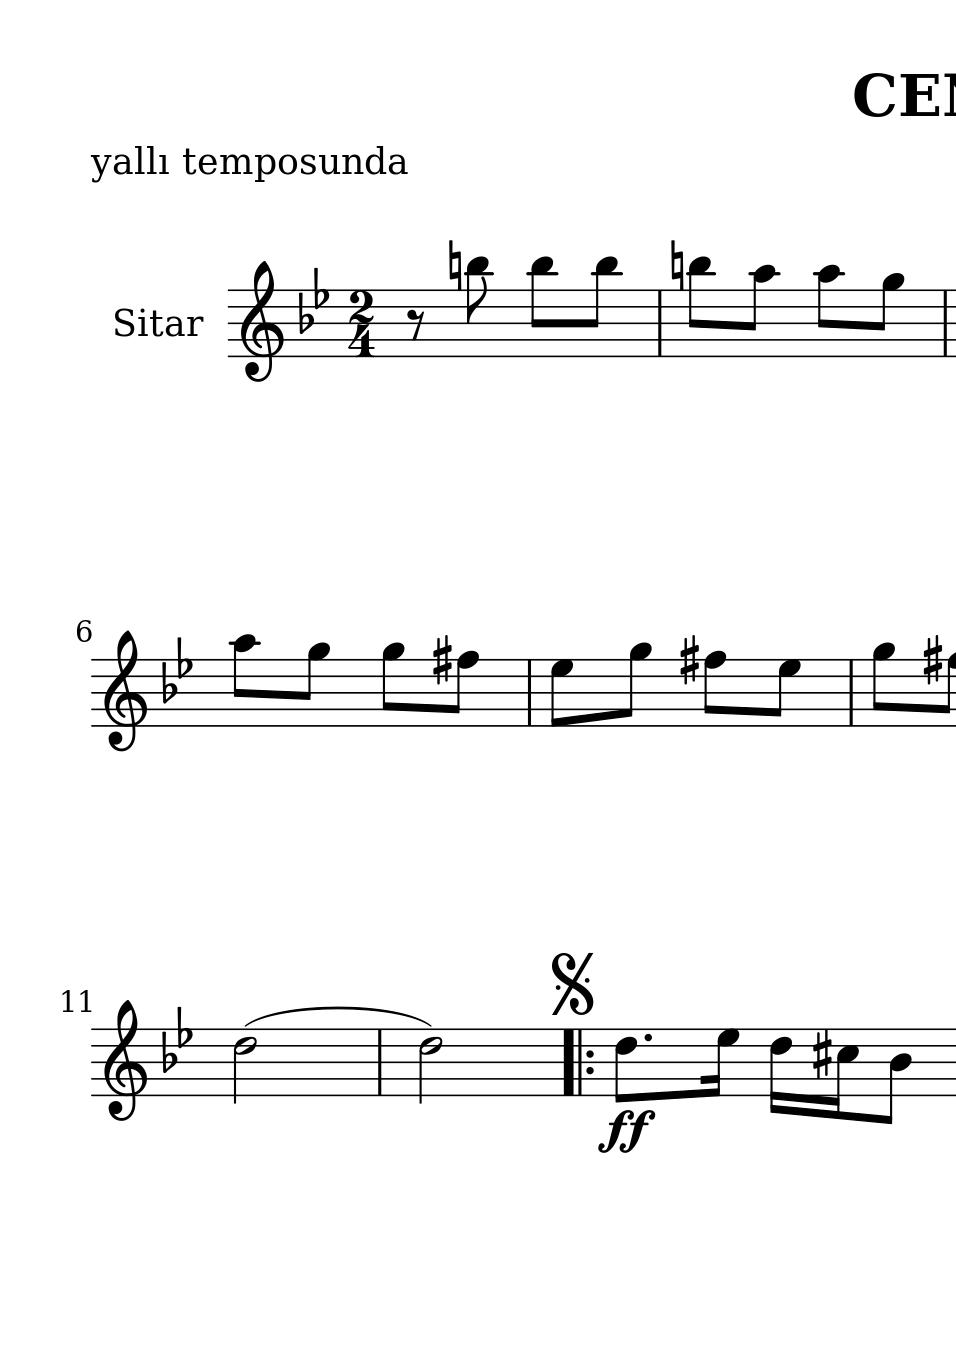1: (59, 987, 76, 1016), (77, 987, 93, 1016)
16_5: (827, 1027, 858, 1121)
16_6: (768, 1026, 793, 1117)
16_7: (703, 1025, 740, 1098)
2: (346, 286, 377, 324)
2_6: (417, 1026, 444, 1105), (231, 1027, 258, 1105)
4: (343, 322, 379, 358)
6: (74, 615, 93, 644)
8_10: (741, 263, 777, 359), (813, 263, 841, 359), (231, 633, 257, 728)
8_11: (584, 256, 618, 359), (464, 256, 492, 359), (528, 256, 555, 358), (686, 254, 712, 359)
8_4: (880, 1027, 912, 1126)
8_6: (613, 1027, 637, 1105)
8_7: (767, 657, 800, 728), (549, 657, 574, 729)
8_8: (446, 649, 478, 729), (701, 649, 726, 729)
8_9: (294, 641, 330, 728), (870, 271, 905, 359), (618, 641, 652, 728), (379, 640, 406, 729), (870, 641, 896, 729)
B_F: (295, 266, 330, 334), (159, 635, 195, 703), (160, 1004, 195, 1074)
Gclef: (238, 259, 282, 383), (102, 629, 147, 753), (102, 998, 145, 1122)
LeftRepeatSign: (559, 1028, 595, 1096)
Natural: (447, 239, 461, 292), (669, 239, 683, 291)
Rests8: (404, 307, 424, 340)
Segno: (544, 949, 599, 1017)
Sharp: (677, 633, 699, 686), (810, 1027, 833, 1080), (921, 633, 943, 686), (430, 633, 451, 687)
Single_barline: (371, 1029, 390, 1095), (651, 291, 668, 356), (521, 660, 538, 726), (937, 290, 953, 357), (843, 660, 859, 725)
Slur: (242, 1007, 431, 1028)
TimeSig: (346, 288, 375, 358)
dot: (641, 1030, 655, 1046)
ff: (596, 1107, 655, 1156)
